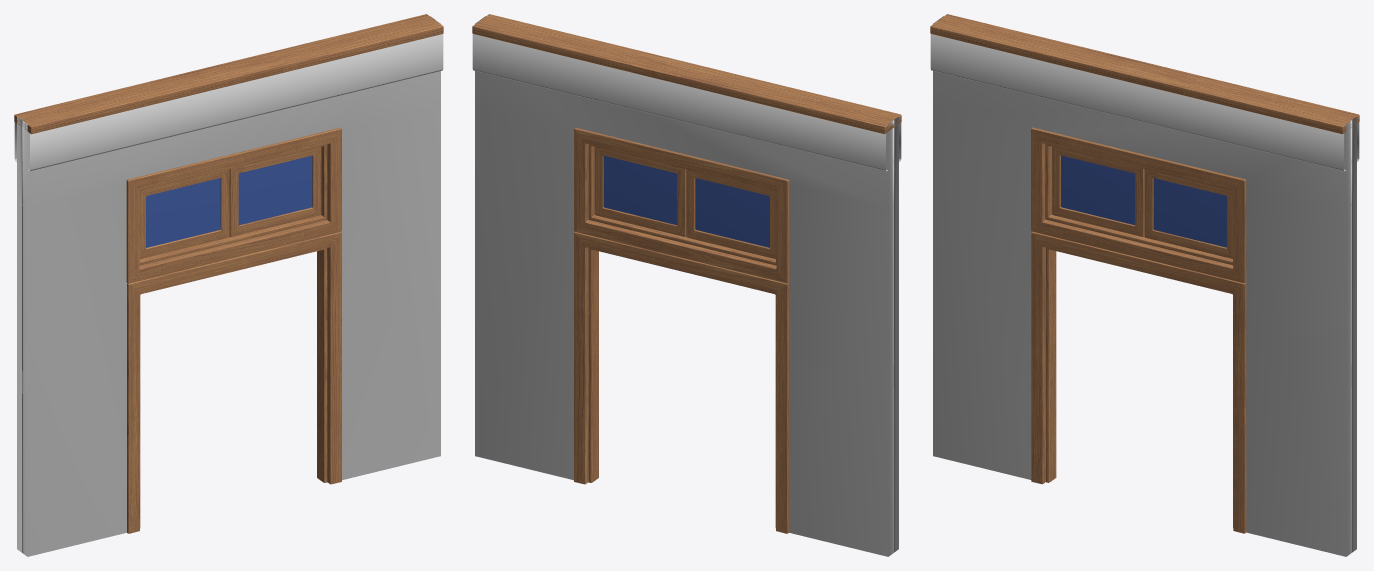
The model's file is SM_wall_door_classroom.fbx.
The picture shows the model from 3 angles, left to right: view 1: azimuth 30°, elevation 25°; view 2: azimuth 150°, elevation 25°; view 3: azimuth 330°, elevation 25°; orthographic projection.
Parts seen in each view (by area): view 1: Wall_door_class; view 2: Wall_door_class; view 3: Wall_door_class.
Boxes of the visible parts, <box> form: Wall_door_class: <box>14,14,443,556</box>; Wall_door_class: <box>472,14,901,556</box>; Wall_door_class: <box>930,14,1359,556</box>.
Size of the model in its own units: 157 by 158 by 11.32.
